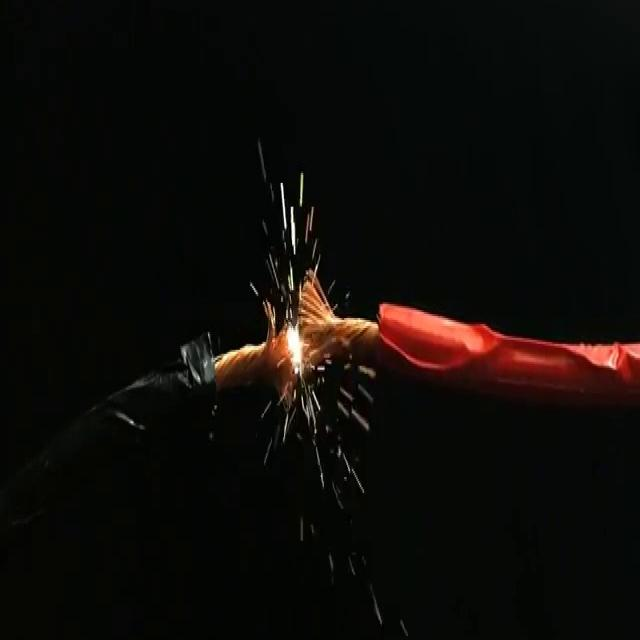fire: (263, 284, 317, 376)
